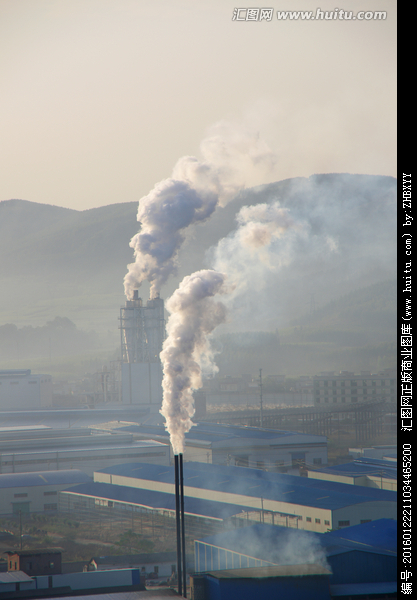dust: (114, 149, 244, 319), (150, 270, 234, 469)
